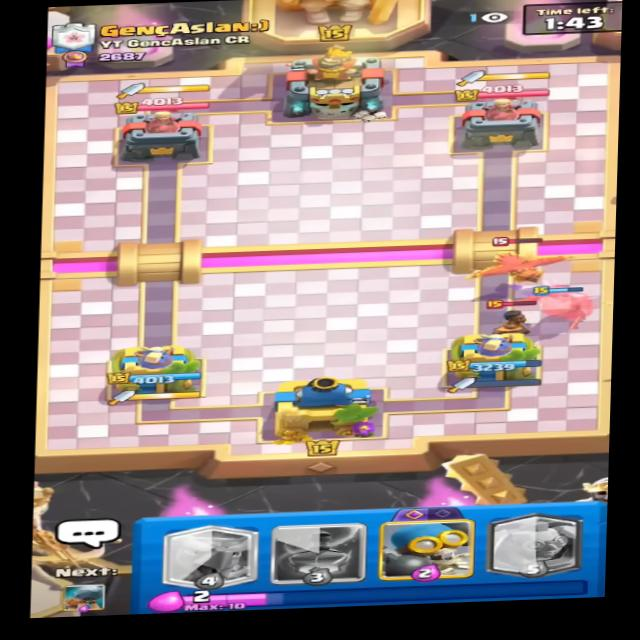Pheonix: (464, 231, 575, 286)
Ramrider: (480, 295, 547, 346)
